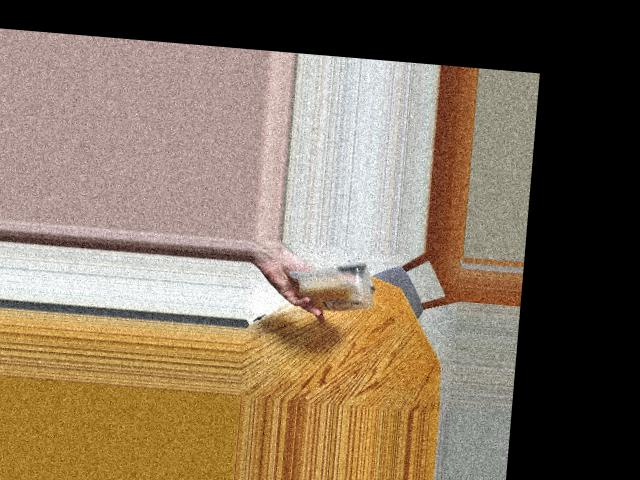cheese: (300, 264, 370, 312)
